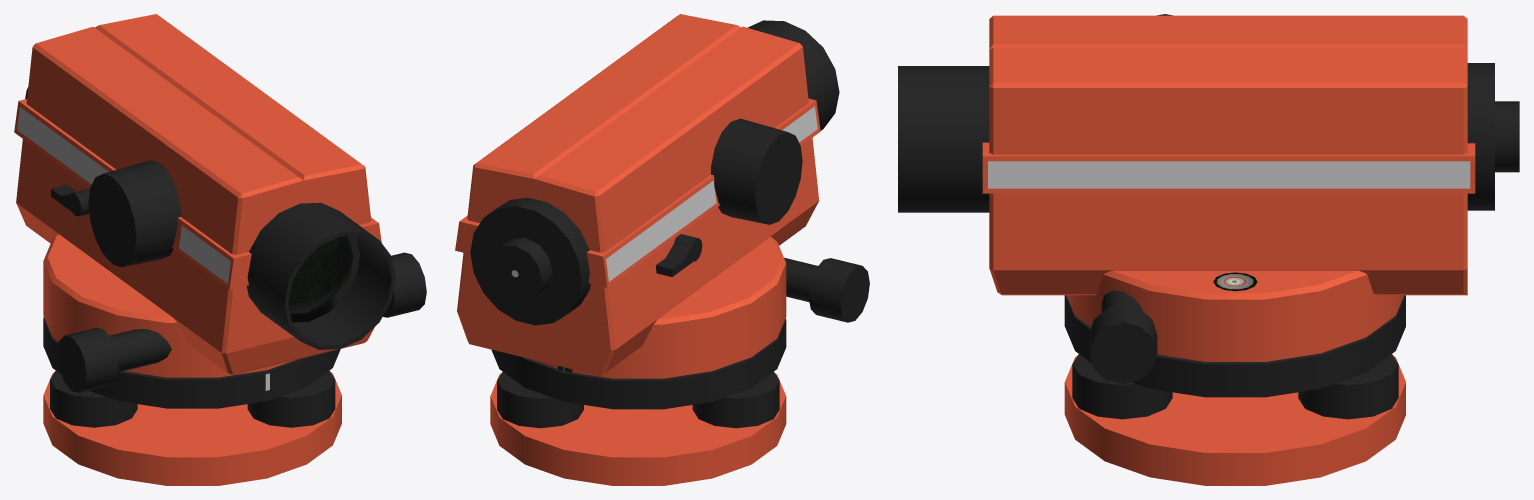
File: Leica_Level.FBX
3 renders of one model, left to right at view 1: azimuth 30°, elevation 25°; view 2: azimuth 150°, elevation 25°; view 3: azimuth 270°, elevation 25°, orthographic. The views are drawn at different scales.
Parts seen in each view (by area): view 1: telescope, tribrach, horizontal_scale; view 2: telescope, tribrach, horizontal_scale; view 3: telescope, tribrach, horizontal_scale.
Part boxes in pixels (x1,y1,x2,y2): telescope: [14, 14, 426, 392]; tribrach: [43, 370, 341, 485]; horizontal_scale: [43, 317, 340, 408]; telescope: [455, 14, 869, 378]; tribrach: [490, 372, 786, 485]; horizontal_scale: [491, 318, 786, 409]; telescope: [898, 14, 1519, 383]; tribrach: [1064, 354, 1405, 485]; horizontal_scale: [1064, 295, 1405, 397].
Size of the model in its own units: 13.92 by 19.27 by 12.68.
Materials: 1 (1 with a texture image).
